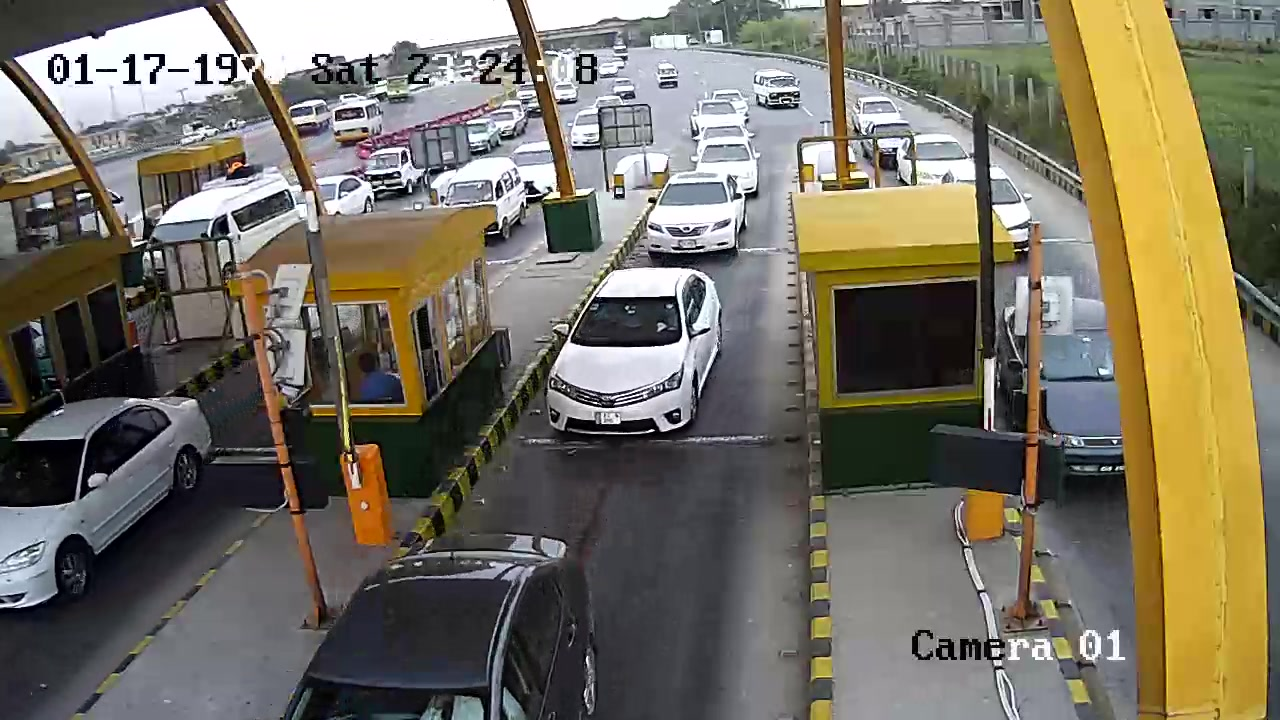F1: (538, 262, 732, 452)
